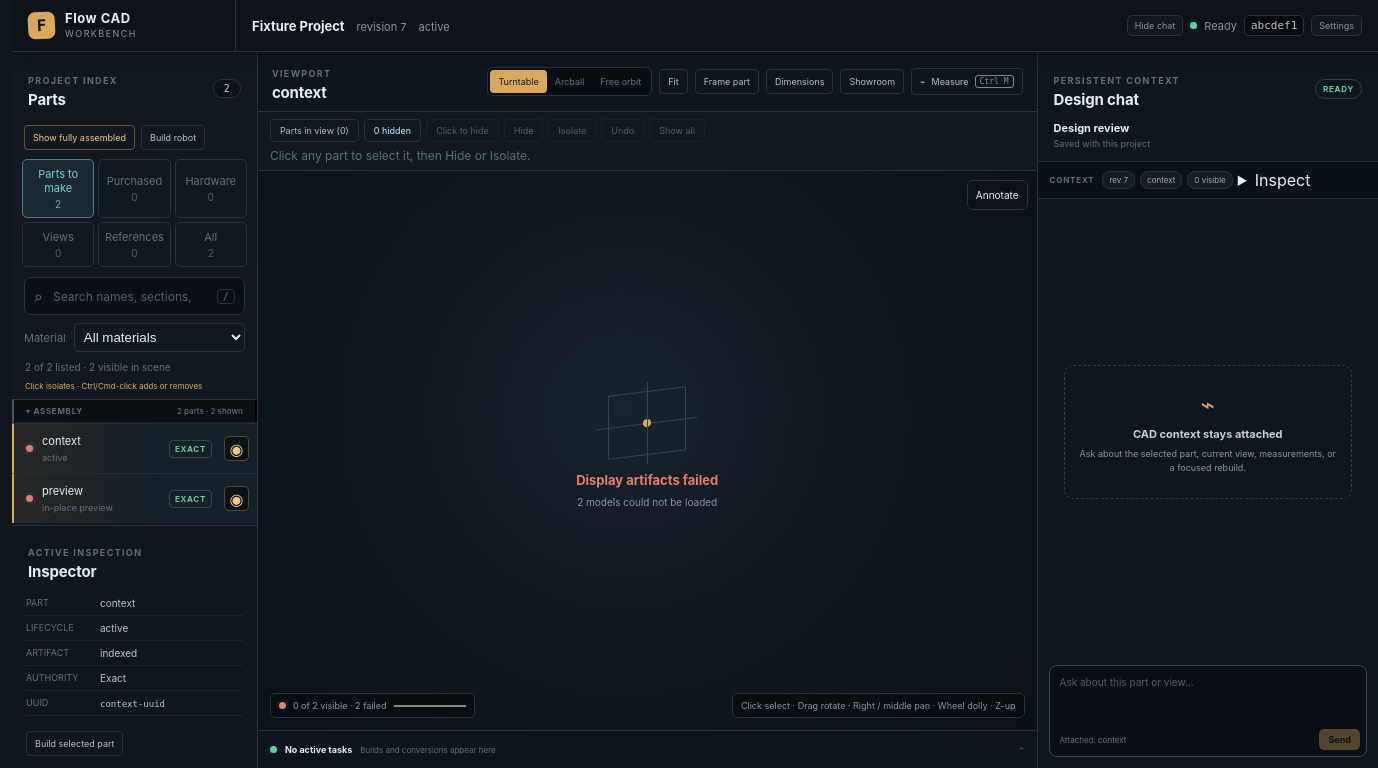
replacement AppShell › keeps assembly context visible when an in-place preview is selected
What coordinates should you click on to do the following:
click the option "preview in-place preview Exact"
I would click on:
 (119, 499)
Its box is [14,474,224,524].
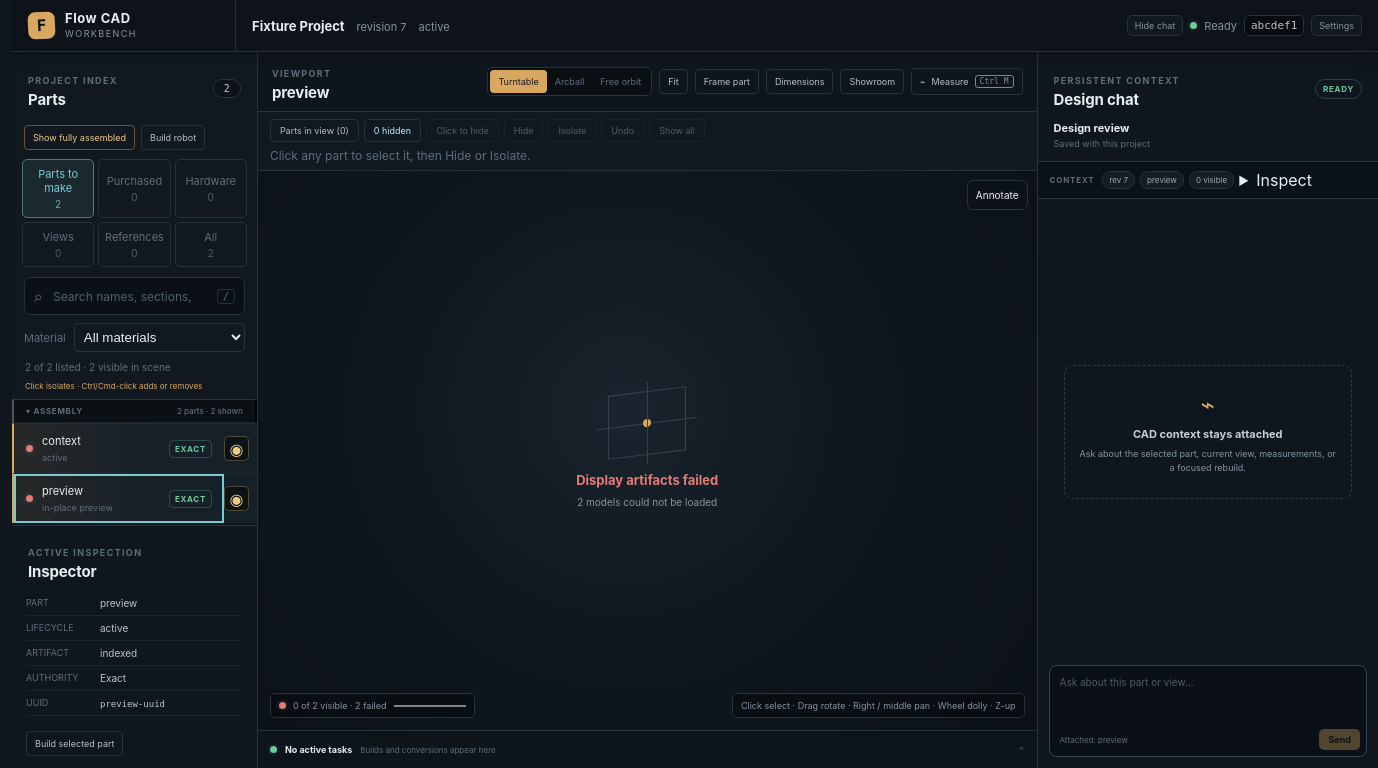
Expected: the heading "preview" is shown, [272,83,329,102]
